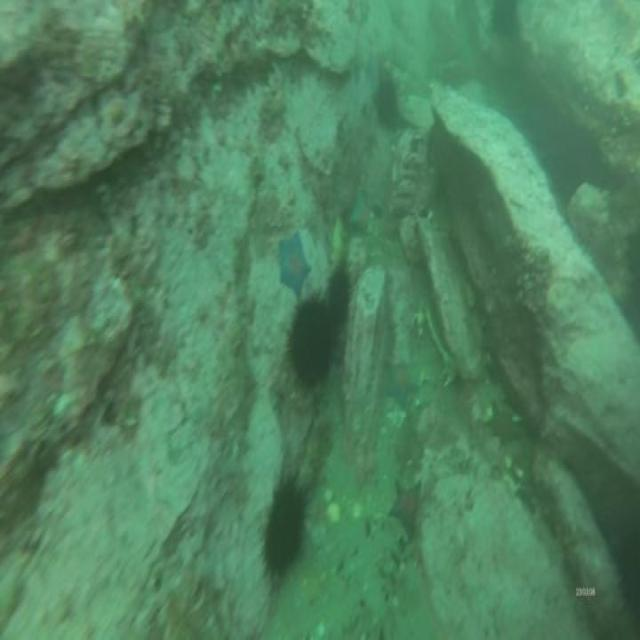echinus: (266, 482, 306, 570), (292, 302, 332, 381), (373, 77, 401, 126), (329, 267, 352, 322)
starfish: (278, 234, 311, 295), (388, 479, 421, 536), (387, 360, 417, 408), (487, 403, 517, 444)
